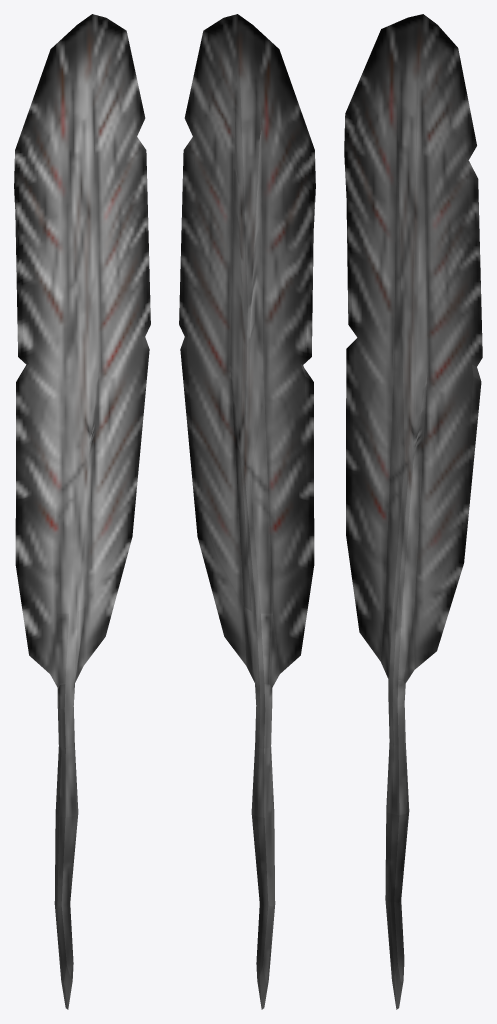
The model's file is UnityFerderV2.fbx.
3 renders of one model, left to right at view 1: azimuth 30°, elevation 25°; view 2: azimuth 150°, elevation 25°; view 3: azimuth 330°, elevation 25°, orthographic.
Visible parts, largest first — view 1: Cube; view 2: Cube; view 3: Cube.
Part boxes in pixels (x1=…): Cube: x1=14, y1=14, x2=150, y2=1009; Cube: x1=179, y1=14, x2=315, y2=1009; Cube: x1=344, y1=14, x2=482, y2=1009.
Size of the model in its own units: 1.59 by 11.03 by 0.2157.
